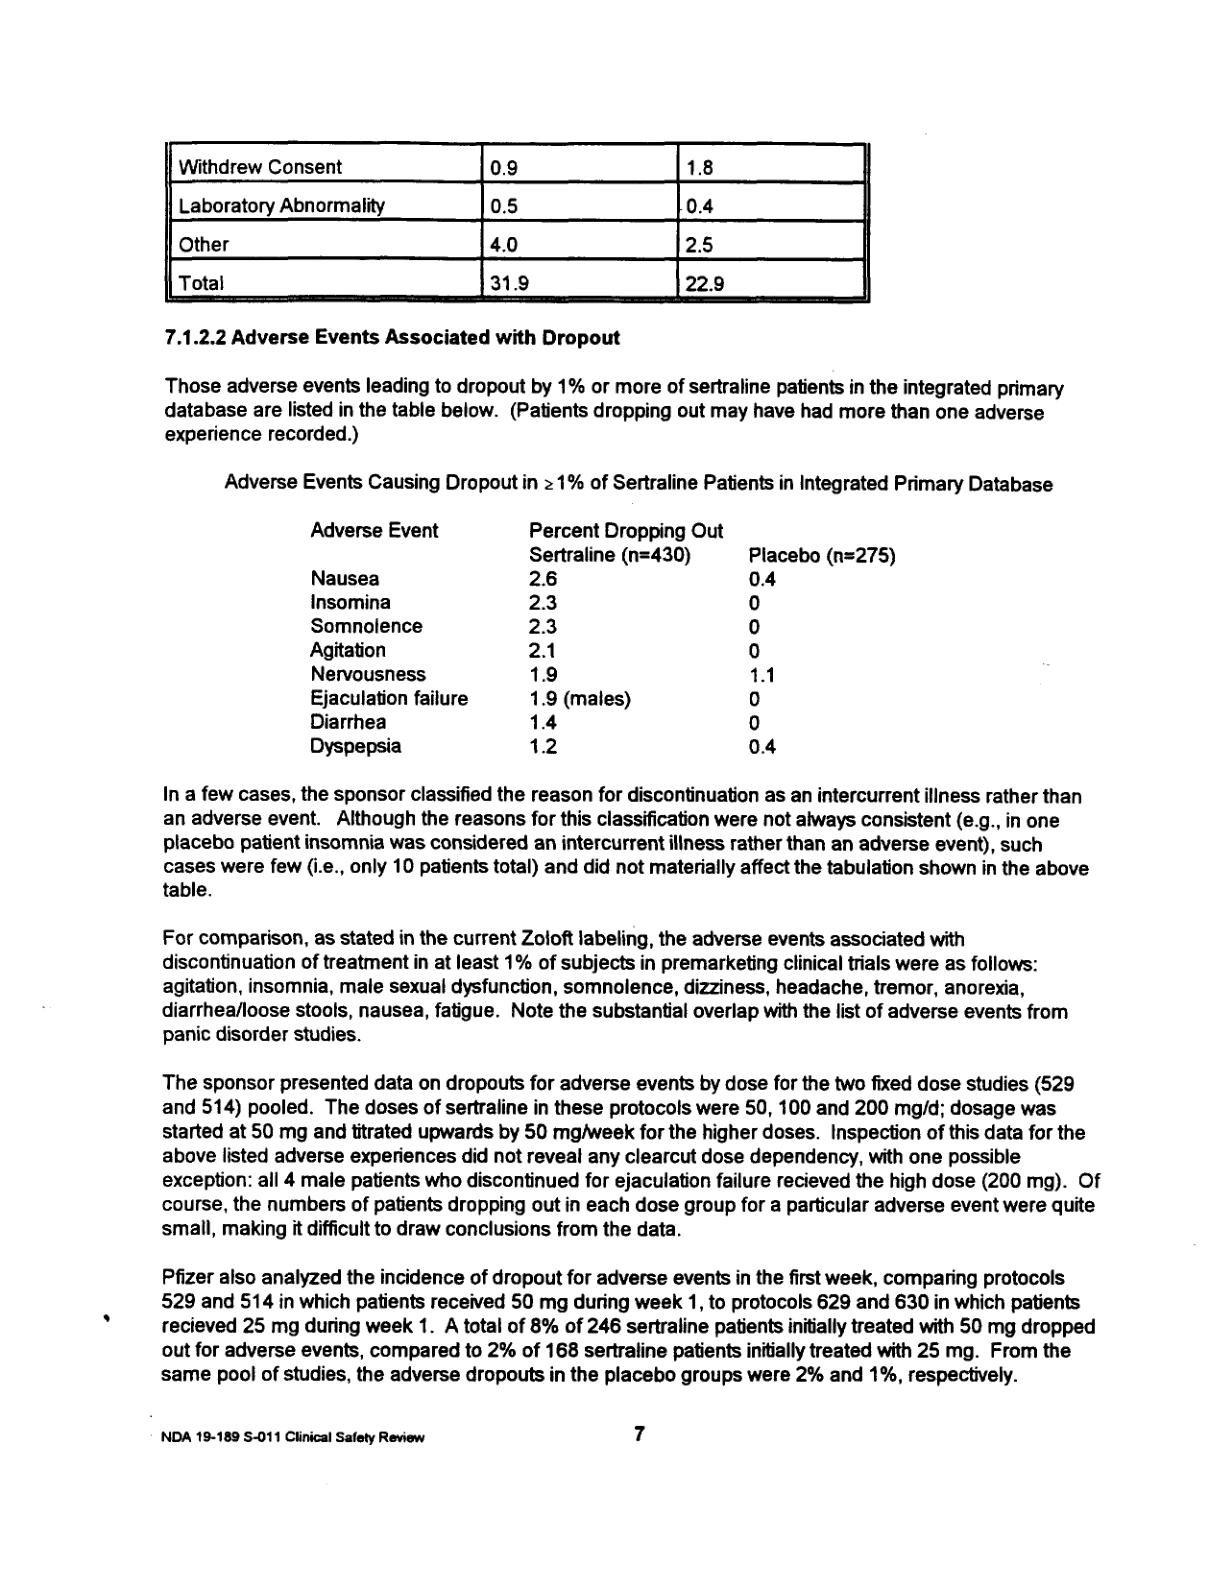full_lined: (163, 138, 871, 305)
nolines: (303, 512, 898, 761)
